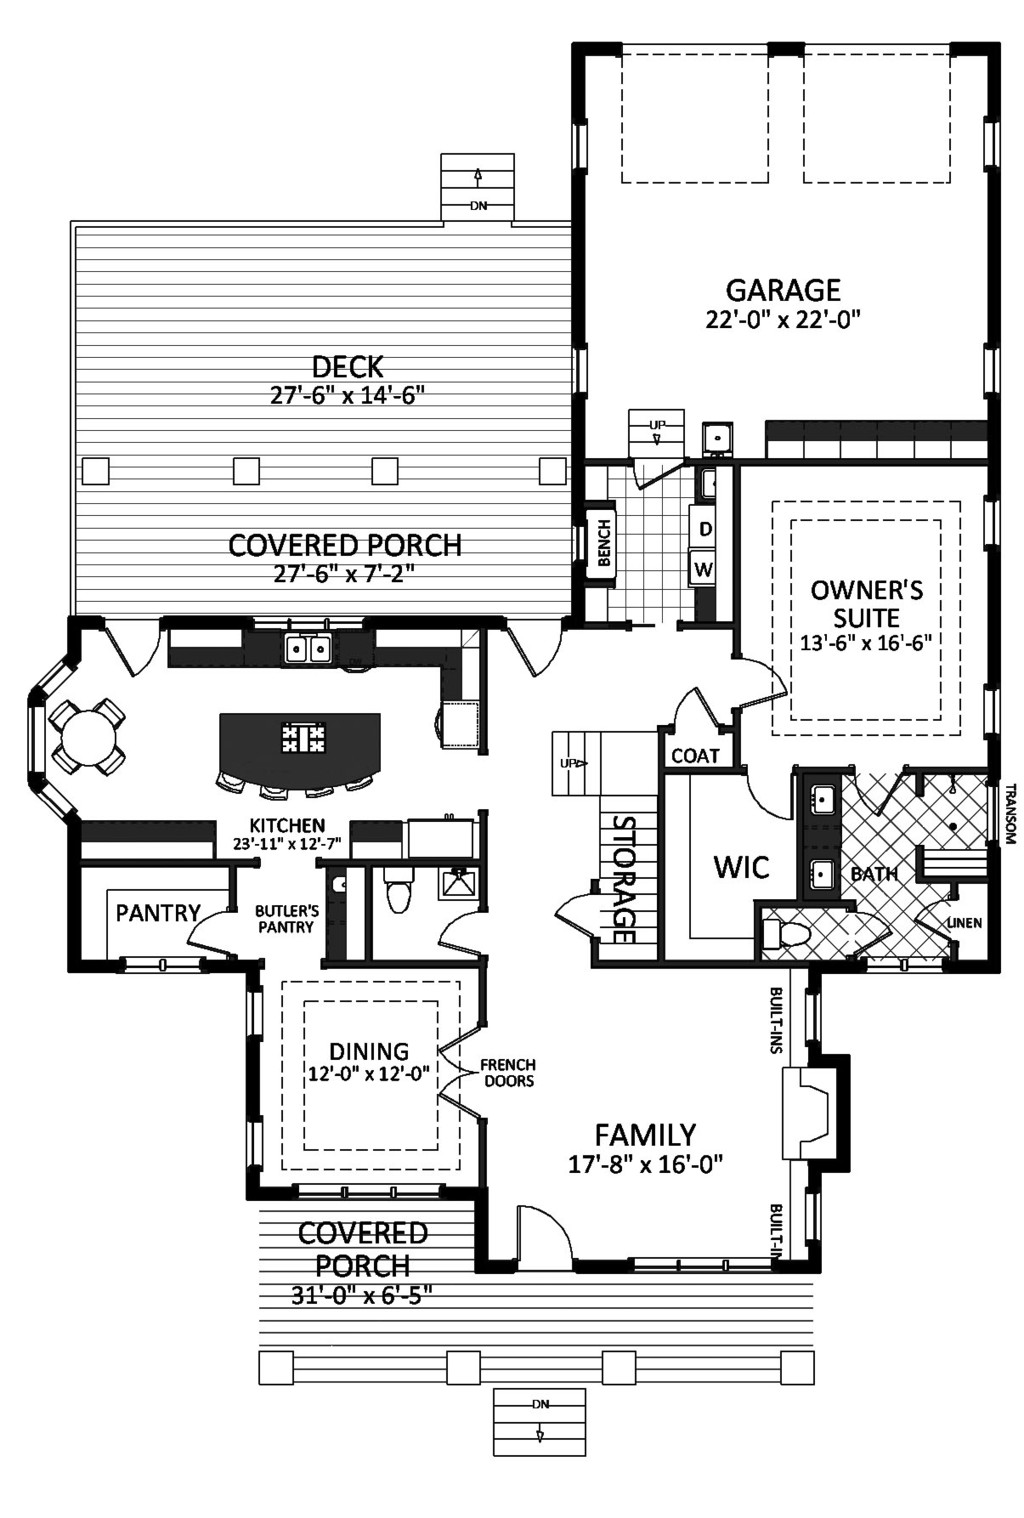door: (505, 1192, 595, 1275), (437, 1020, 495, 1122), (494, 607, 567, 676), (911, 871, 971, 953), (622, 440, 701, 503), (101, 617, 175, 684), (555, 878, 617, 945), (747, 765, 801, 834), (192, 903, 255, 961), (667, 679, 725, 740), (425, 900, 486, 957), (843, 906, 897, 968), (739, 652, 787, 718), (845, 768, 907, 817)
kitchen_bar: (208, 706, 398, 817)
round_table: (22, 689, 142, 790)
stairs: (555, 732, 661, 970), (426, 120, 525, 237), (489, 1379, 597, 1464)
twin_sink: (262, 621, 342, 671)
window: (619, 1243, 773, 1279), (971, 331, 1019, 401), (555, 118, 600, 190), (965, 679, 1023, 732), (981, 476, 1011, 557), (555, 339, 594, 396), (981, 117, 1011, 173)
